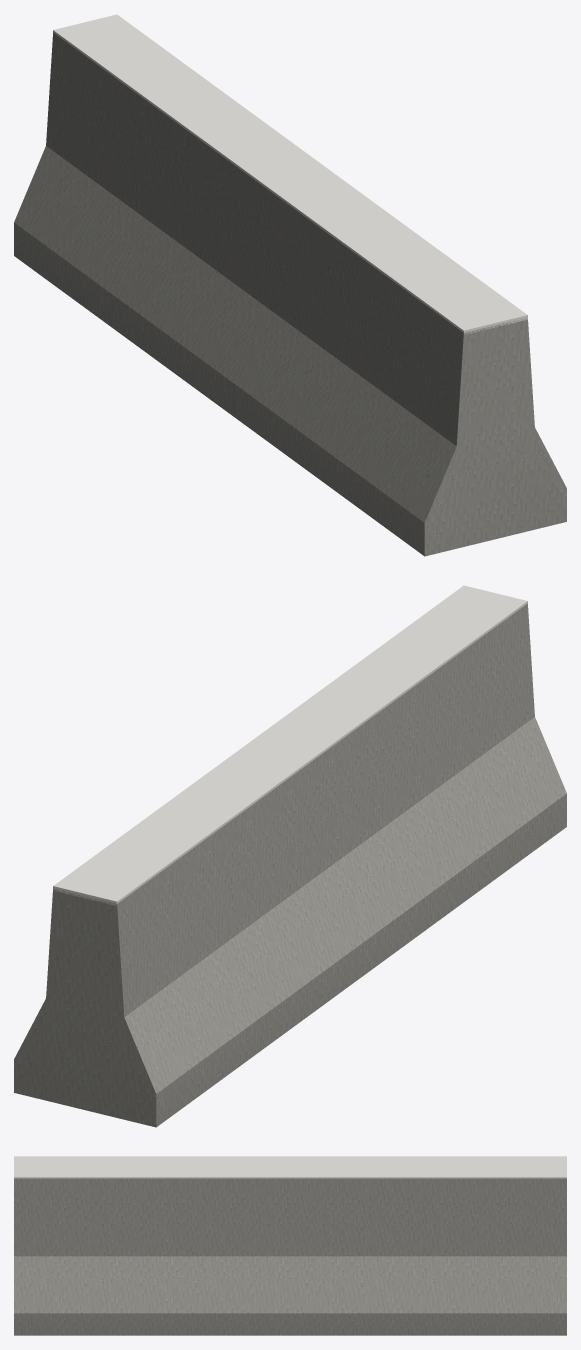
File: street-block_far.glb
The picture shows the model from 3 angles, top to bottom: view 1: azimuth 30°, elevation 25°; view 2: azimuth 150°, elevation 25°; view 3: azimuth 270°, elevation 25°; orthographic projection. The views are drawn at different scales.
Parts seen in each view (by area): view 1: concrete, board-face; view 2: concrete, board-face; view 3: concrete, board-face.
Boxes of the visible parts, <box> form: concrete: <box>14,32,566,556</box>; board-face: <box>53,14,527,334</box>; concrete: <box>14,603,566,1127</box>; board-face: <box>53,585,527,905</box>; concrete: <box>14,1178,566,1335</box>; board-face: <box>14,1156,566,1178</box>.
Bounding box in the file's own units: 0.8001 × 1.16 × 4.
2 materials, 1 textured.
